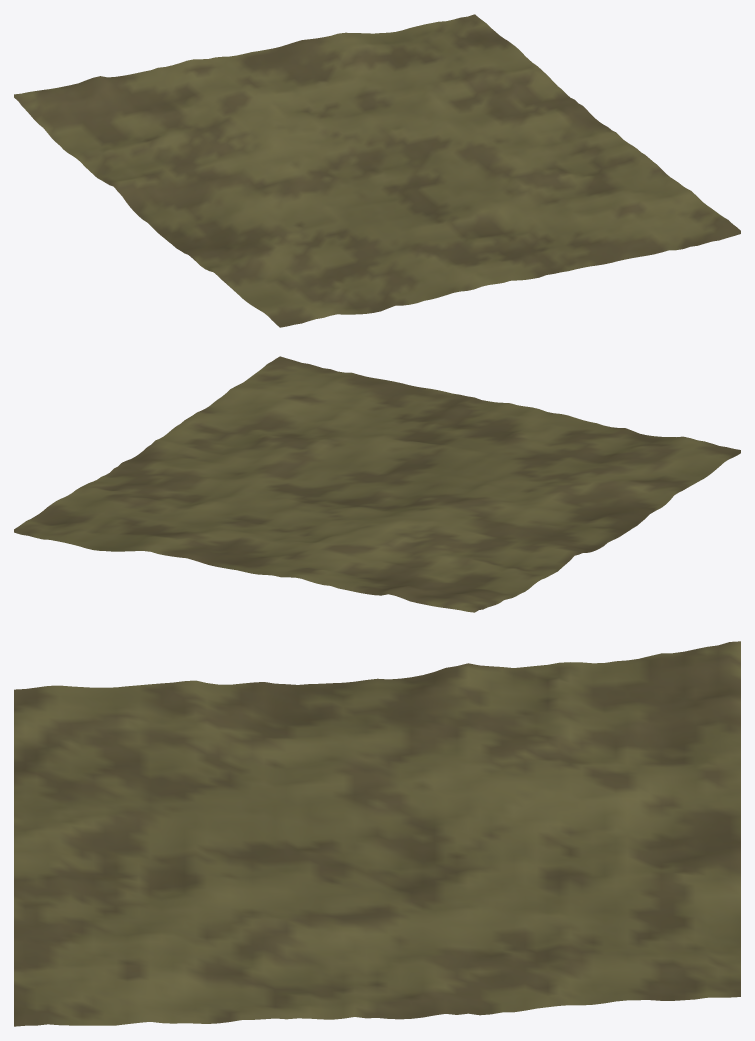
The model's file is land_f_03_03.glb.
3 views of the same model, one above another, from view 1: azimuth 30°, elevation 25°; view 2: azimuth 150°, elevation 25°; view 3: azimuth 270°, elevation 25° (orthographic). The views are drawn at different scales.
Parts seen in each view (by area): view 1: land_f_03_03; view 2: land_f_03_03; view 3: land_f_03_03.
Boxes of the visible parts, left/top/right/bottom form: land_f_03_03: left=14, top=14, right=740, bottom=327; land_f_03_03: left=14, top=356, right=740, bottom=612; land_f_03_03: left=14, top=641, right=740, bottom=1026.
Bounding box in the file's own units: 3840 × 466 × 3840.
